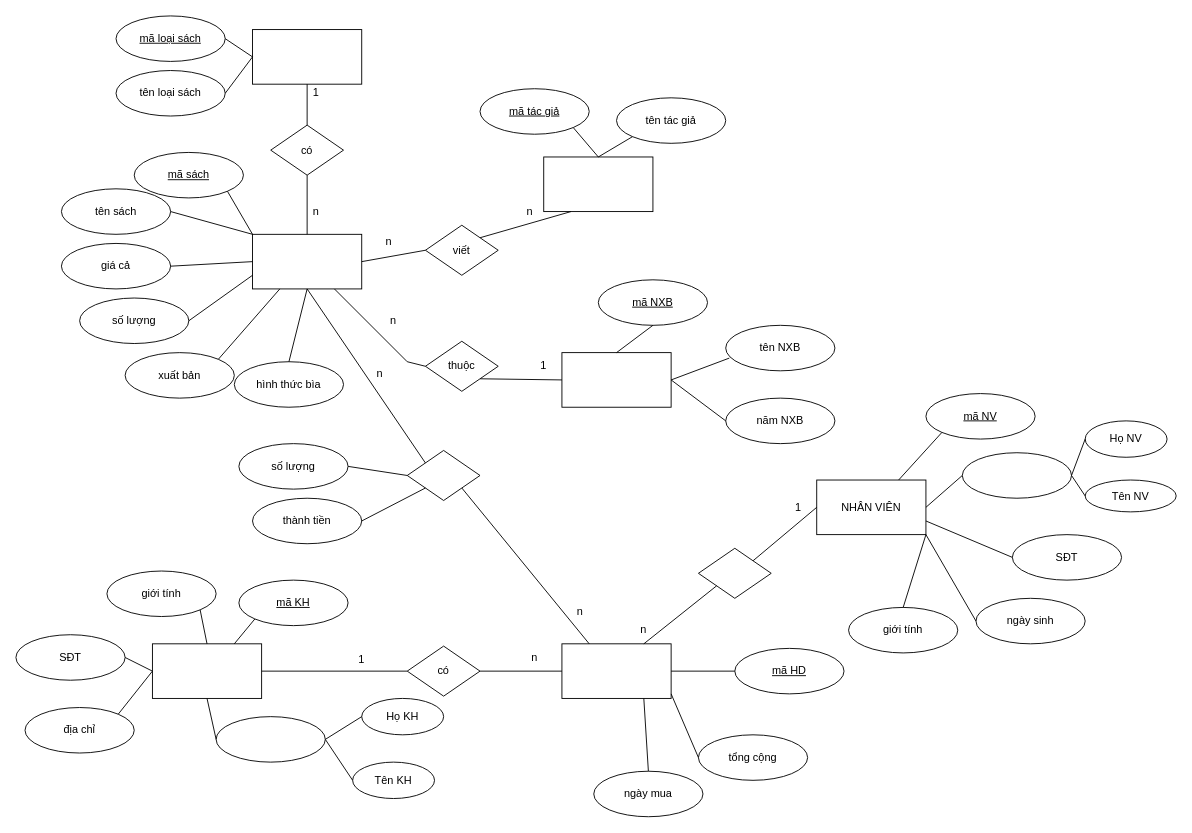
This 1192x833 diagram has some shape labels left out. Here are the shapes that lost their labels. From the top down, the centre of each, then its label:
At point (307, 56): "LOẠI SÁCH".
At point (598, 184): "TÁC GIẢ".
At point (307, 261): "SÁCH".
At point (616, 379): "NXB".
At point (443, 475): "mua".
At point (1016, 475): "Họ tên NV".
At point (734, 572): "lập".
At point (207, 670): "KHÁCH HÀNG".
At point (616, 670): "HÓA ĐƠN".
At point (270, 739): "Họ tên KH".
